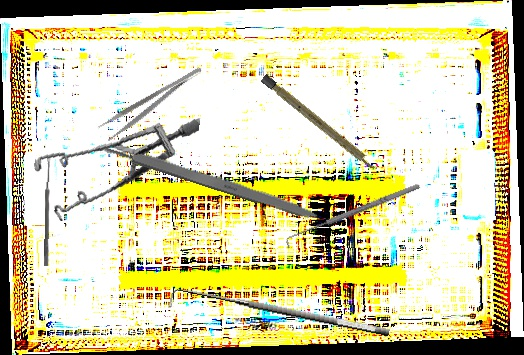Dressing Forceps: (96, 63, 210, 144)
Hook Surgical: (167, 279, 391, 354), (282, 181, 424, 249)
Scalpel Handle: (101, 138, 327, 225), (260, 74, 380, 173)
Speculum: (25, 91, 201, 242)
Surgical Spoon: (44, 154, 51, 267)
